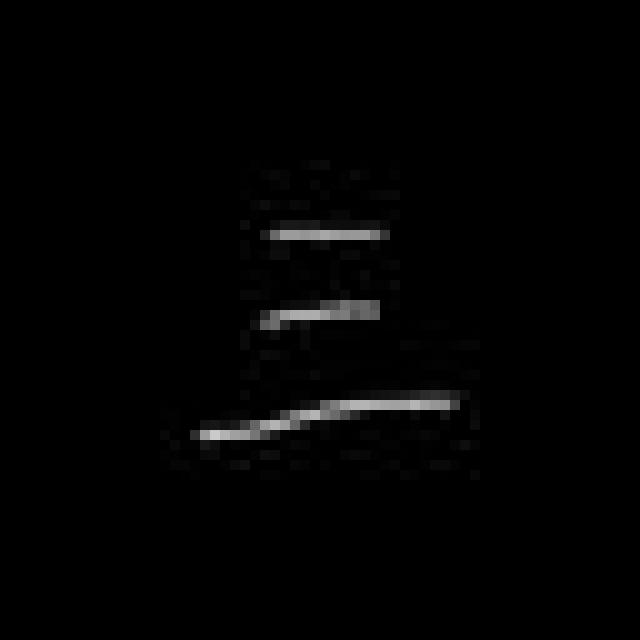3 -three-: (176, 208, 468, 457)
